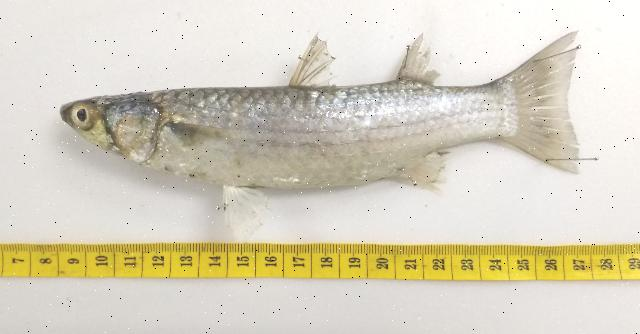Mulut: (52, 92, 84, 142)
Sirip Anal: (388, 141, 458, 202)
Sirip Dada: (156, 111, 224, 155)
Sirip Ekor: (507, 25, 601, 177)
Sirip Perut: (210, 174, 284, 244)
Sirip Punggung: (280, 27, 446, 97)
